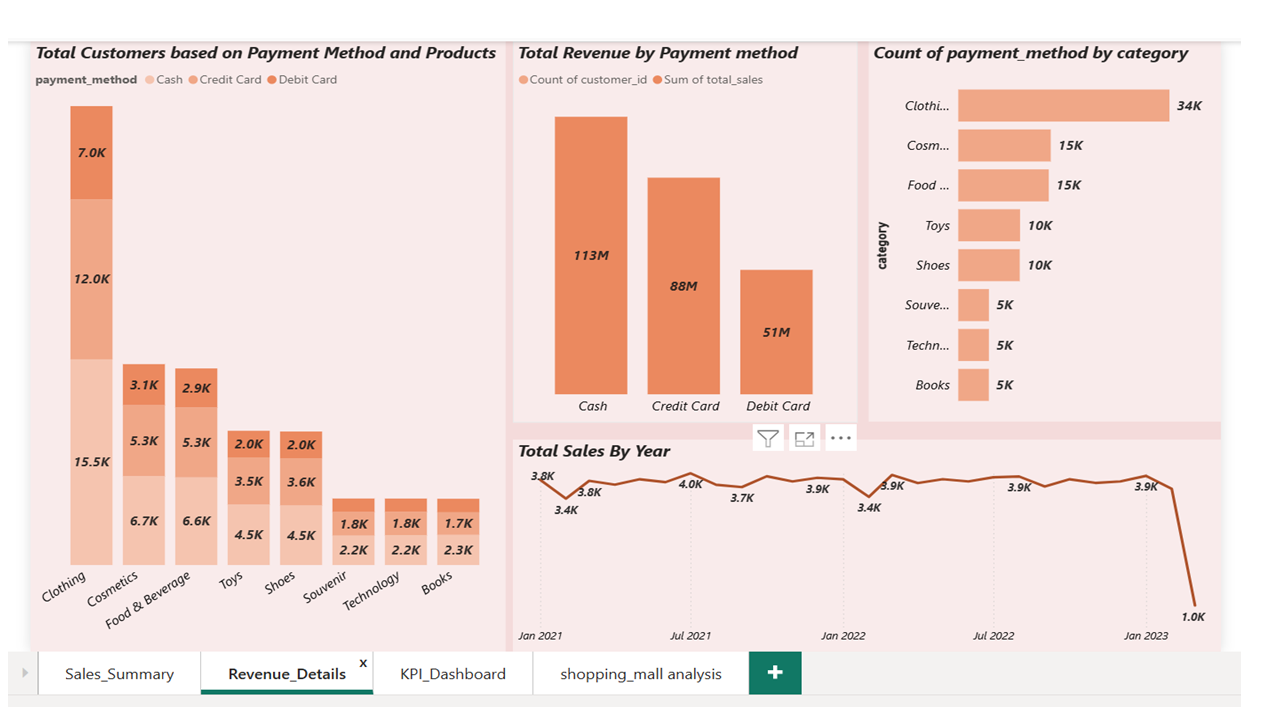

This screenshot's page, from the dashboard's own definition file:
{"tool":"powerbi","page":{"name":"Revenue_Details","canvas":[1280,720],"ordinal":1},"visuals":[{"type":"columnChart","title":"Total Customers based on Payment Method and Products","fields":{"Category":["project_customer_segmentation customer.category"],"Y":["CountNonNull(project_customer_segmentation customer.gender)"],"Series":["project_customer_segmentation customer.payment_method"]},"box":[0,0,510.6,720.5],"z":0},{"type":"columnChart","title":"Total Revenue by Payment method","fields":{"Category":["project_customer_segmentation customer.payment_method"],"Y":["CountNonNull(project_customer_segmentation customer.customer_id)","Sum(project_customer_segmentation customer.total_sales)"]},"box":[518.5,0,370.6,450.1],"z":1000},{"type":"lineChart","title":"Total Sales By Year","fields":{"Category":["project_customer_segmentation customer.invoice_date.Variation.Date Hierarchy.Year","project_customer_segmentation customer.invoice_date.Variation.Date Hierarchy.Month"],"Y":["CountNonNull(project_customer_segmentation customer.invoice_date)"]},"box":[518.1,470.3,761.9,249.7],"z":2000},{"type":"barChart","fields":{"Category":["project_customer_segmentation customer.category"],"Y":["CountNonNull(project_customer_segmentation customer.payment_method)"]},"box":[900.3,0,380.2,448.6],"z":3001}]}

Visuals, with their boxes on the page's 1280x720 design canvas (x1, y1, x2, y2). These are canvas units, not pixel positions in the 1280x720 screenshot, which may show the page scaled, cropped or inside an application window:
"Total Customers based on Payment Method and Products" columnChart: pyautogui.locateOnScreen(0, 0, 511, 720)
"Total Revenue by Payment method" columnChart: pyautogui.locateOnScreen(518, 0, 889, 450)
"Total Sales By Year" lineChart: pyautogui.locateOnScreen(518, 470, 1280, 720)
barChart - project_customer_segmentation customer.category x CountNonNull(project_customer_segmentation customer.payment_method): pyautogui.locateOnScreen(900, 0, 1280, 449)
